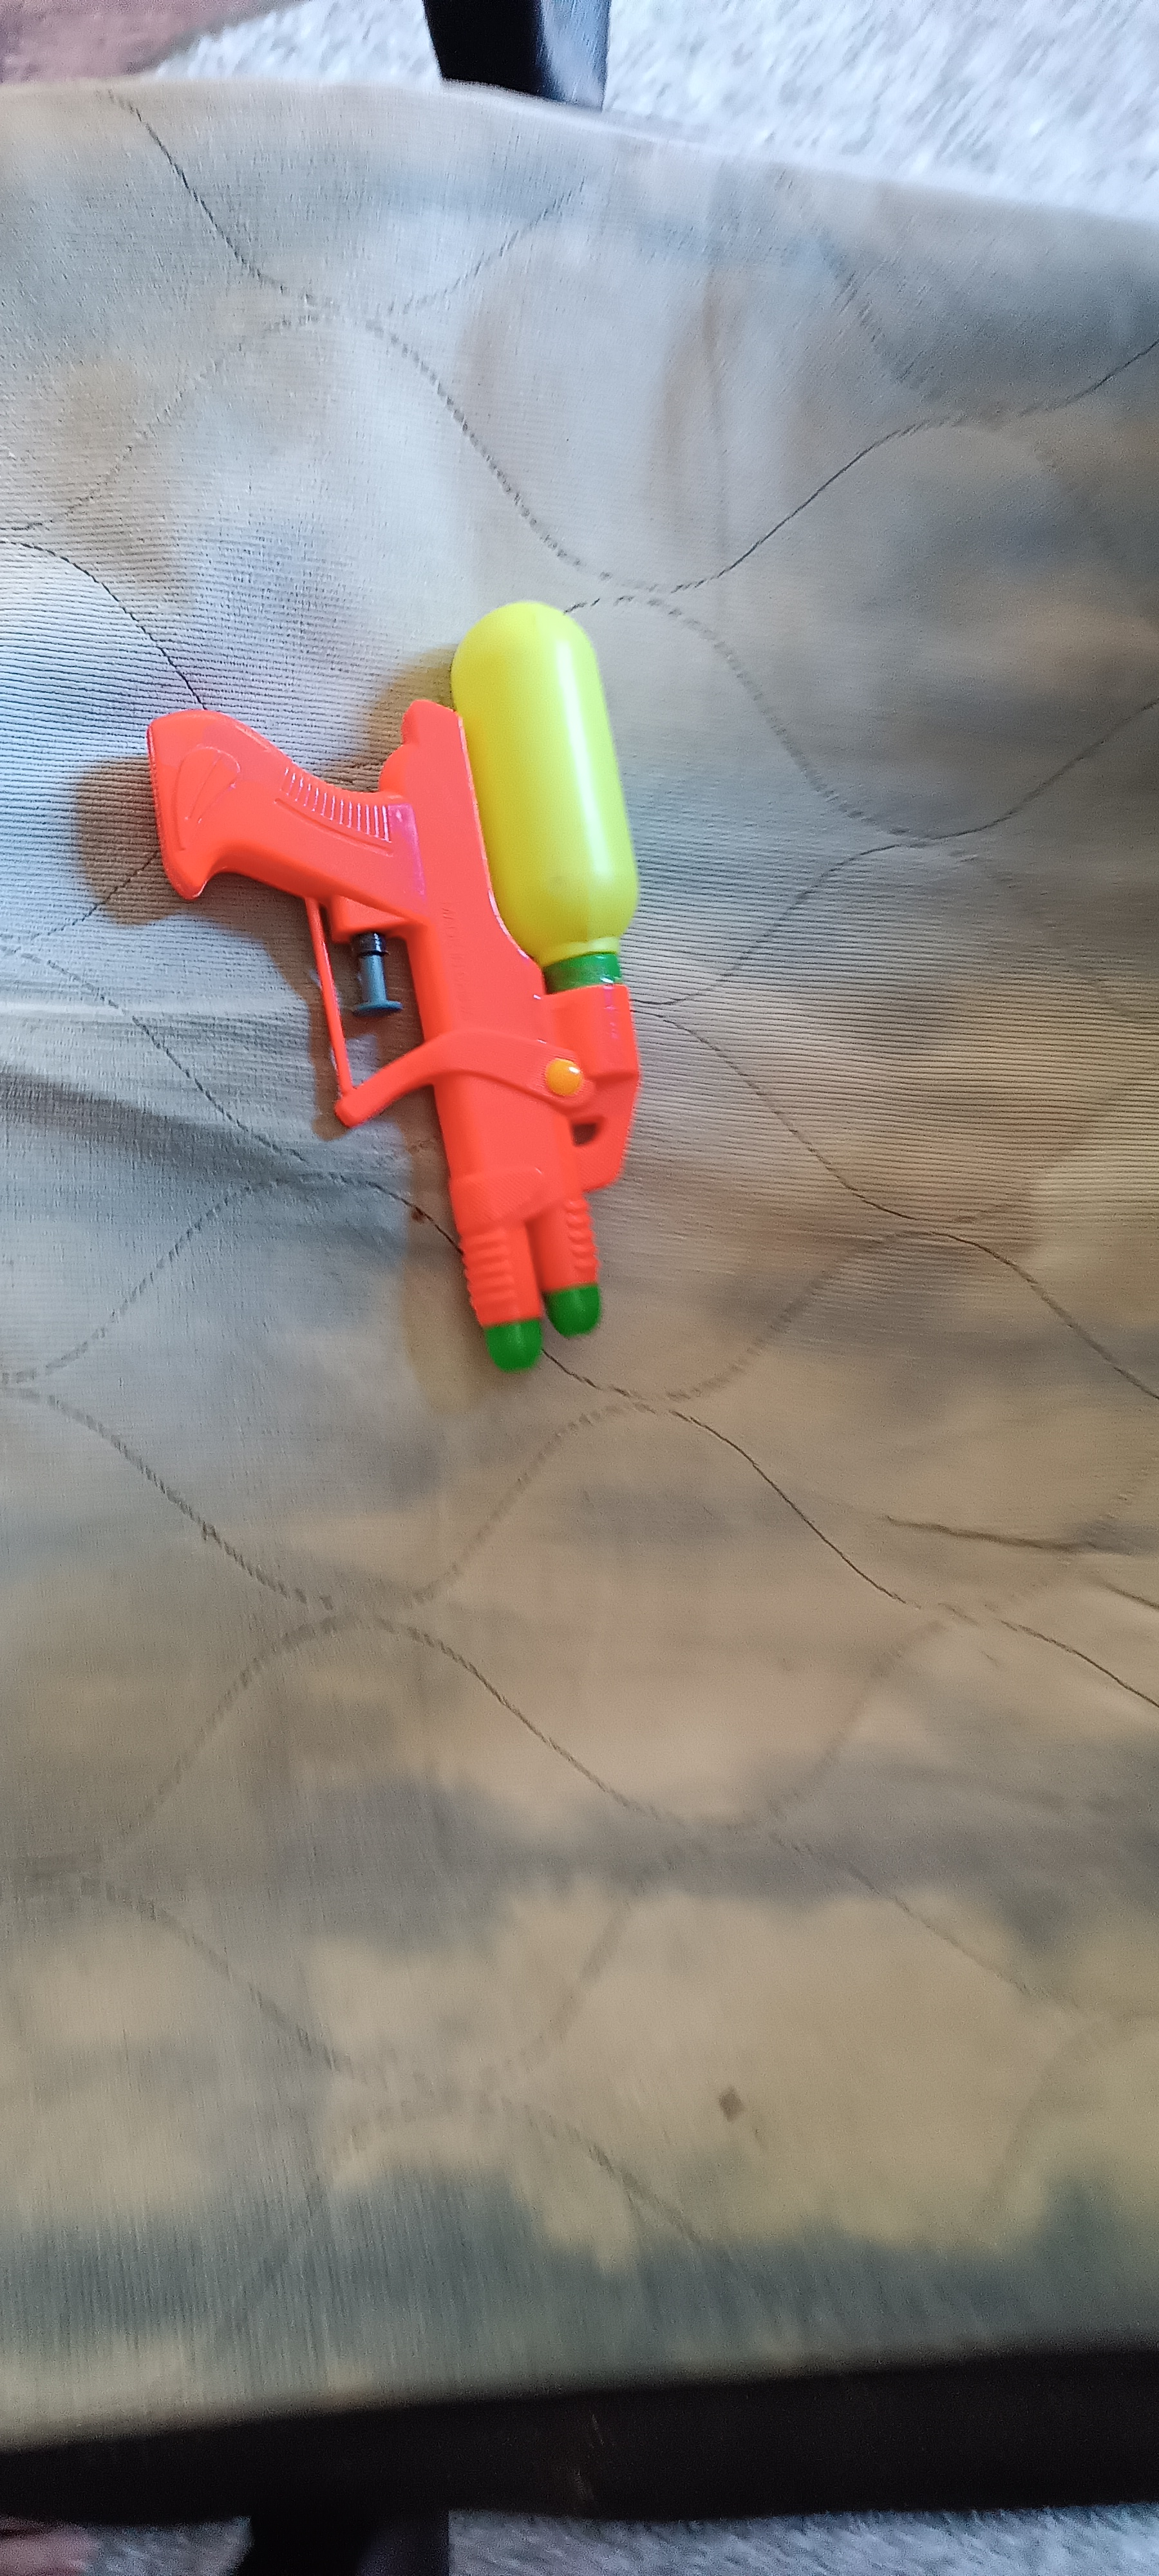Water Gun: (146, 596, 642, 1370)
